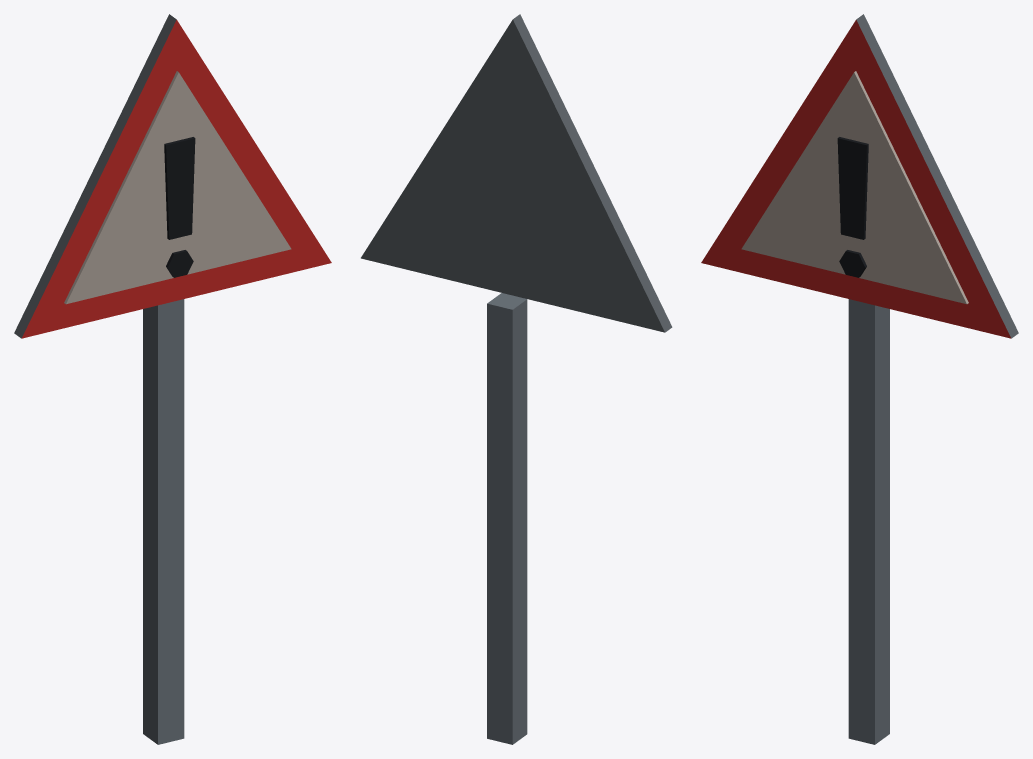
Rendered from hl_trk_sign_warning.glb.
3 renders of one model, left to right at view 1: azimuth 30°, elevation 25°; view 2: azimuth 150°, elevation 25°; view 3: azimuth 330°, elevation 25°, orthographic.
Parts seen in each view (by area): view 1: hl_trk_sign_warning; view 2: hl_trk_sign_warning; view 3: hl_trk_sign_warning.
Part boxes in pixels (x1,y1,x2,y2): hl_trk_sign_warning: [14, 14, 331, 744]; hl_trk_sign_warning: [361, 14, 672, 744]; hl_trk_sign_warning: [701, 14, 1018, 744].
Size of the model in its own units: 0.9525 by 2.13 by 0.131.
